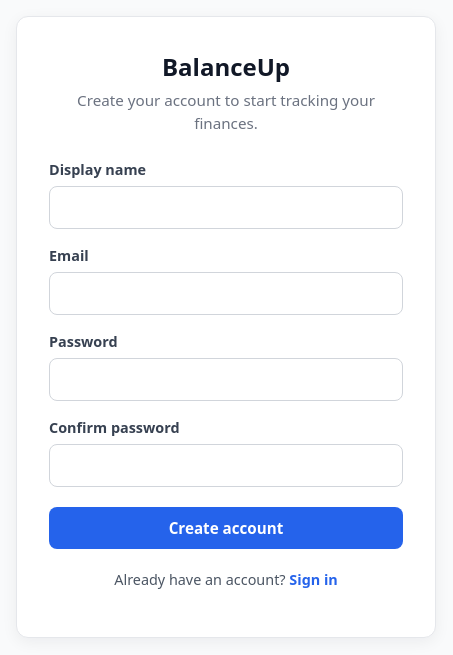
Test: App & Auth Routing › redirects to /login with info message when register does not return a JWT
Type "Maria" into the field labelled "Display name".
click(226, 207); type("Maria")  # box [49,186,403,229]
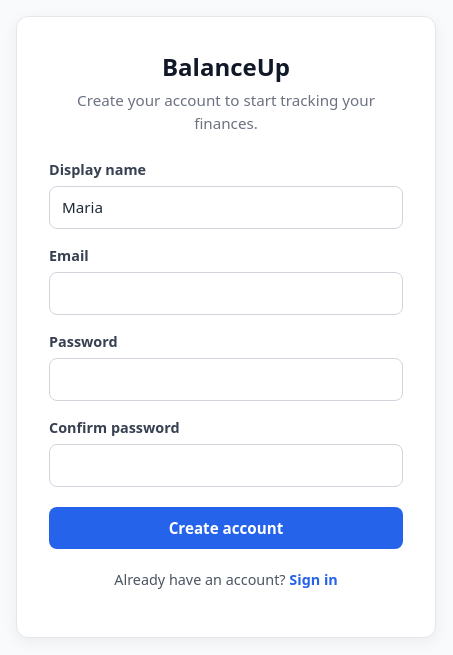
Type "maria@example.com" into the field labelled "Email".
click(226, 293); type("maria@example.com")  # box [49,272,403,315]
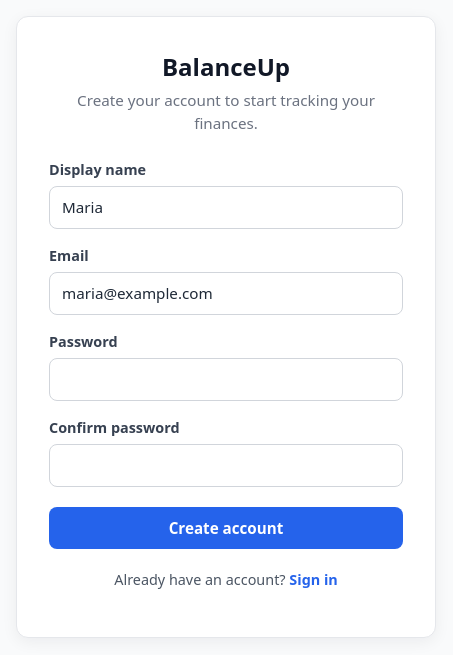
Type "password123" into the password field labelled "Password".
click(226, 379); type("password123")  # box [49,358,403,401]
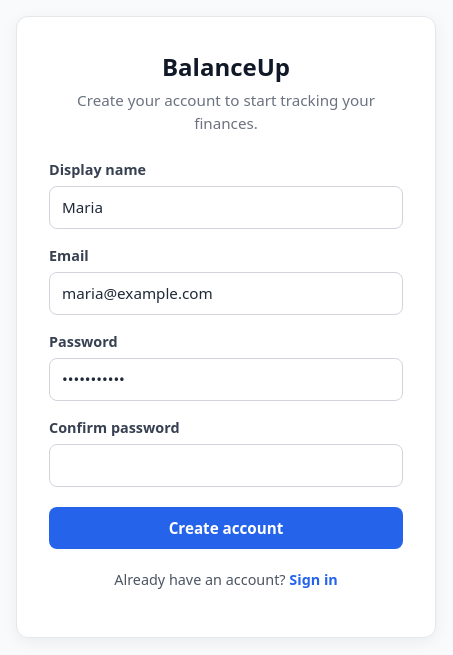
Type "password123" into the password field labelled "Confirm password".
click(226, 465); type("password123")  # box [49,444,403,487]
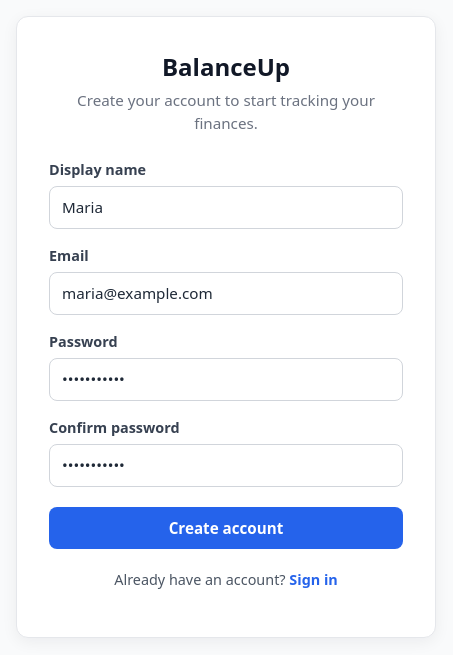
Click the button "Create account".
click(226, 528)  # box [49,507,403,549]
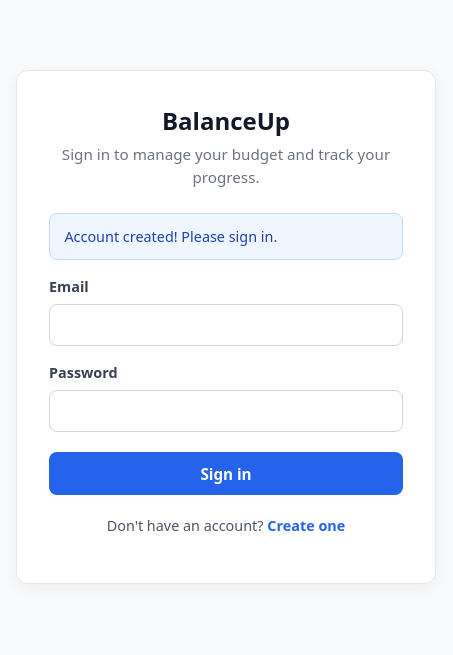
Check: the message reads "Account created! Please sign in.", box [64,227,277,246]
Check: the button "Sign in" is shown, box [49,452,403,495]
